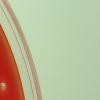white: (0, 81, 9, 92)
